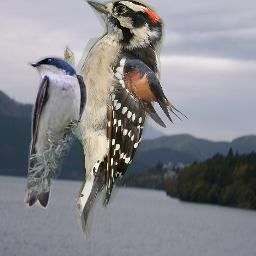Swallow: (22, 55, 88, 209), (121, 59, 189, 128)
Woodpecker: (50, 0, 167, 238)
